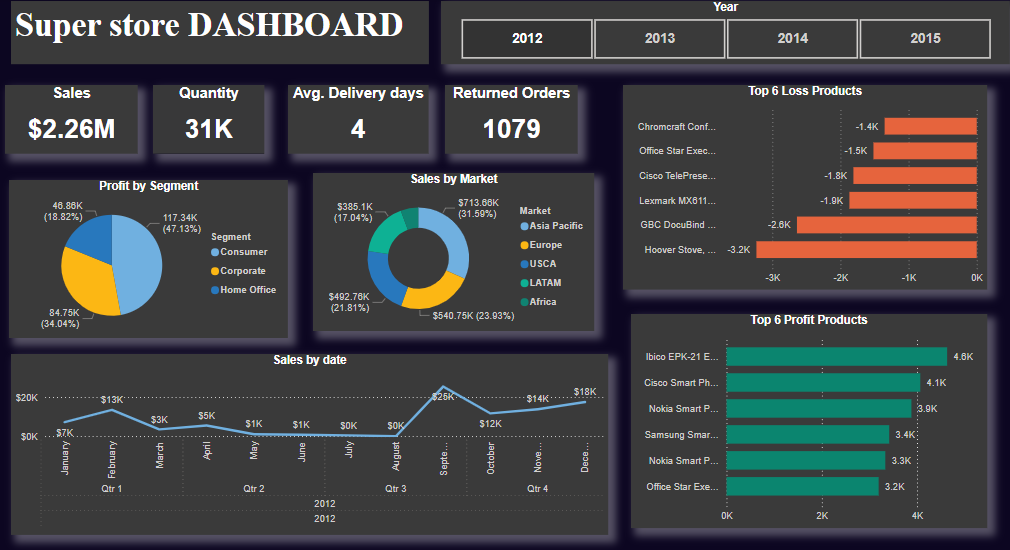

What the dashboard file says about the page in this screenshot:
{"tool":"powerbi","page":{"name":"Page 1","canvas":[1280,720],"ordinal":0},"visuals":[{"type":"card","title":"Sales","fields":{"Values":["Sum(Orders.Sales)"]},"box":[7.9,114.4,168.5,87.4],"z":0},{"type":"card","title":"Quantity","fields":{"Values":["Sum(Orders.Quantity)"]},"box":[195.5,114.4,141.5,87.4],"z":1000},{"type":"card","title":"Avg. Delivery days","fields":{"Values":["Avg(Orders.Delivery days)"]},"box":[365.6,114.4,178,87.4],"z":2000},{"type":"slicer","title":"Year","fields":{"Values":["Orders.year"]},"box":[559.5,7.6,720.3,79.7],"z":3000},{"type":"card","title":"Returned Orders","fields":{"Values":["Sum(Returns.Return orders)"]},"box":[564.2,114.4,168.5,87.4],"z":4000},{"type":"barChart","title":"Top 6 Profit Products","fields":{"Y":["Sum(Orders.Profit)"],"Category":["Orders.Product Name"]},"box":[800,403.8,450.6,270.9],"z":6000},{"type":"barChart","title":"Top 6 Loss Products","fields":{"Y":["Sum(Orders.Profit)"],"Category":["Orders.Product Name"]},"box":[789.9,113.9,460.8,259.5],"z":7000},{"type":"pieChart","title":"Profit by Segment","fields":{"Category":["Orders.Segment"],"Y":["Sum(Orders.Profit)"]},"box":[12.7,234.2,353.2,200],"z":8000},{"type":"donutChart","title":"Sales by Market","fields":{"Category":["Orders.Market"],"Y":["Sum(Orders.Sales)"]},"box":[397.5,225.3,355.7,200],"z":9000},{"type":"lineChart","title":"Sales by date ","fields":{"Category":["Orders.year","Orders.Order Date.Variation.Date Hierarchy.Year","Orders.Order Date.Variation.Date Hierarchy.Quarter","Orders.Order Date.Variation.Date Hierarchy.Month"],"Y":["Sum(Orders.Sales)"]},"box":[15.2,454.4,755.7,229.1],"z":10000},{"type":"textbox","box":[15.2,7.6,529.1,79.7],"z":11000}]}

Visuals, with their boxes on the page's 1280x720 design canvas (x1, y1, x2, y2). These are canvas units, not pixel positions in the 1010x550 screenshot, which may show the page scaled, cropped or inside an application window:
"Sales" card: detection(8, 114, 176, 202)
"Quantity" card: detection(196, 114, 337, 202)
"Avg. Delivery days" card: detection(366, 114, 544, 202)
"Year" slicer: detection(560, 8, 1280, 87)
"Returned Orders" card: detection(564, 114, 733, 202)
"Top 6 Profit Products" barChart: detection(800, 404, 1251, 675)
"Top 6 Loss Products" barChart: detection(790, 114, 1251, 373)
"Profit by Segment" pieChart: detection(13, 234, 366, 434)
"Sales by Market" donutChart: detection(398, 225, 753, 425)
"Sales by date " lineChart: detection(15, 454, 771, 684)
textbox: detection(15, 8, 544, 87)
